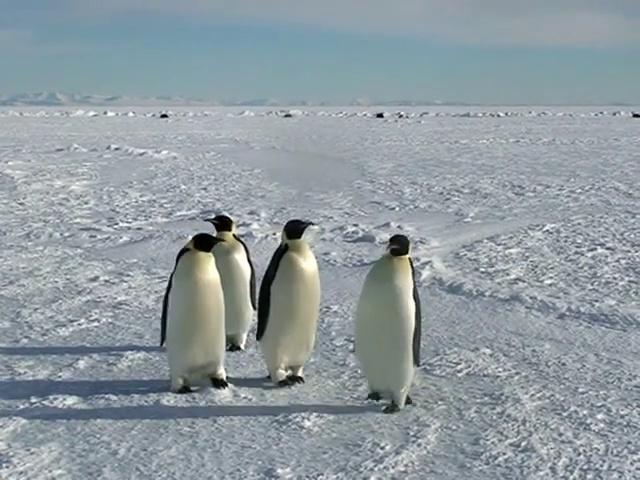animal: (355, 234, 420, 412)
